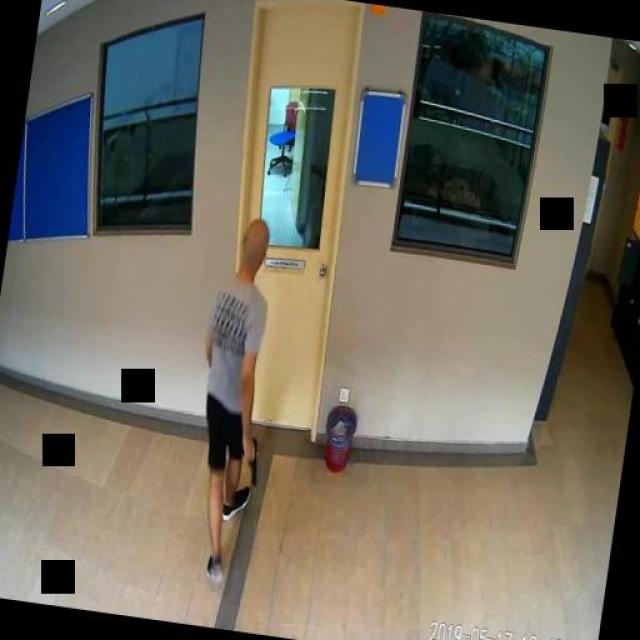gun: (239, 435, 261, 485)
